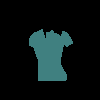polo: (29, 28, 73, 81)
